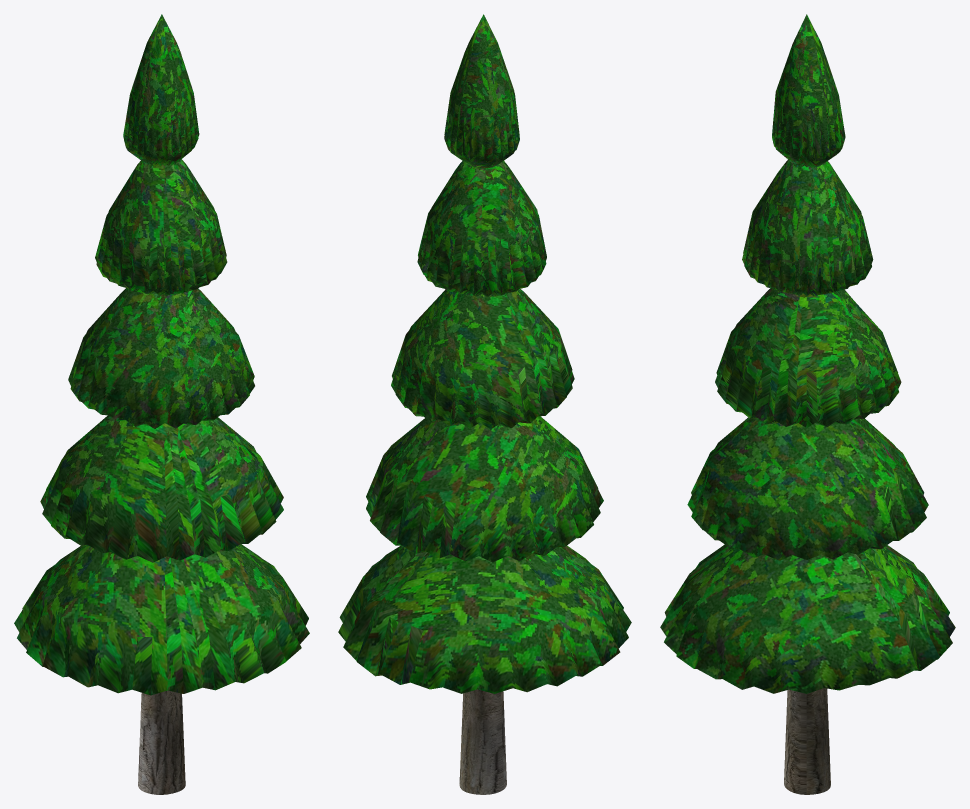
Rendered from tree_cone.glb.
3 views of the same model, side by side, from view 1: azimuth 30°, elevation 25°; view 2: azimuth 150°, elevation 25°; view 3: azimuth 270°, elevation 25° (orthographic).
Parts seen in each view (by area): view 1: Canopy_0, Canopy_1, Canopy_2, Canopy_3, Canopy_4, Trunk; view 2: Canopy_0, Canopy_1, Canopy_2, Canopy_3, Canopy_4, Trunk; view 3: Canopy_0, Canopy_1, Canopy_2, Canopy_3, Canopy_4, Trunk.
Boxes of the visible parts, box(x1,y1,x2,y2) form: Canopy_0: box(14, 544, 309, 695); Canopy_1: box(40, 415, 283, 562); Canopy_2: box(68, 288, 254, 428); Canopy_3: box(95, 159, 227, 296); Canopy_4: box(123, 14, 199, 166); Trunk: box(138, 690, 185, 794); Canopy_0: box(338, 545, 631, 693); Canopy_1: box(366, 416, 603, 562); Canopy_2: box(391, 289, 574, 429); Canopy_3: box(417, 161, 546, 296); Canopy_4: box(444, 14, 519, 168); Trunk: box(459, 689, 506, 794); Canopy_0: box(660, 544, 955, 693); Canopy_1: box(687, 417, 928, 560); Canopy_2: box(715, 288, 901, 427); Canopy_3: box(742, 160, 873, 296); Canopy_4: box(772, 14, 845, 167); Trunk: box(784, 688, 830, 794).
Bounding box in the file's own units: 1.74 × 5.03 × 1.75.
Materials: 2 (2 with a texture image).
